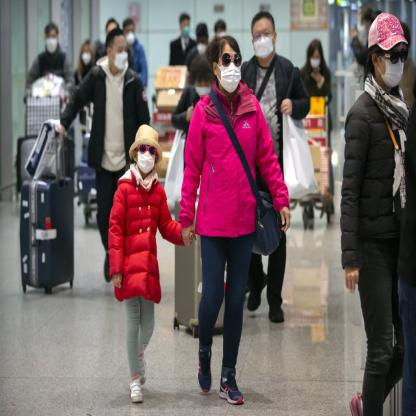Wearing_Mask: (376, 41, 406, 91), (216, 45, 243, 93), (252, 21, 276, 62), (134, 139, 158, 175), (111, 40, 130, 71), (45, 27, 59, 55), (125, 22, 136, 44), (196, 34, 206, 58), (180, 16, 190, 39), (80, 46, 91, 64), (309, 50, 321, 66)
